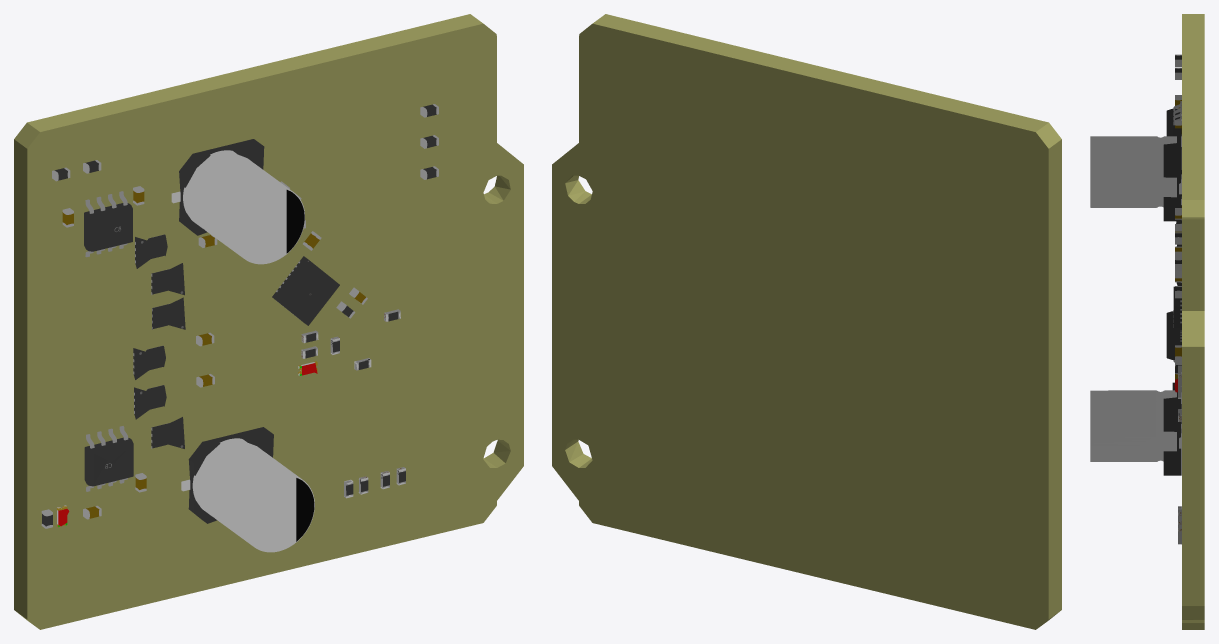
File: OBJ_pcb_drive.obj
The picture shows the model from 3 angles, left to right: view 1: azimuth 30°, elevation 25°; view 2: azimuth 150°, elevation 25°; view 3: azimuth 270°, elevation 25°; orthographic projection. The views are drawn at different scales.
Size of the model in its own units: 217 by 208 by 50.35.
